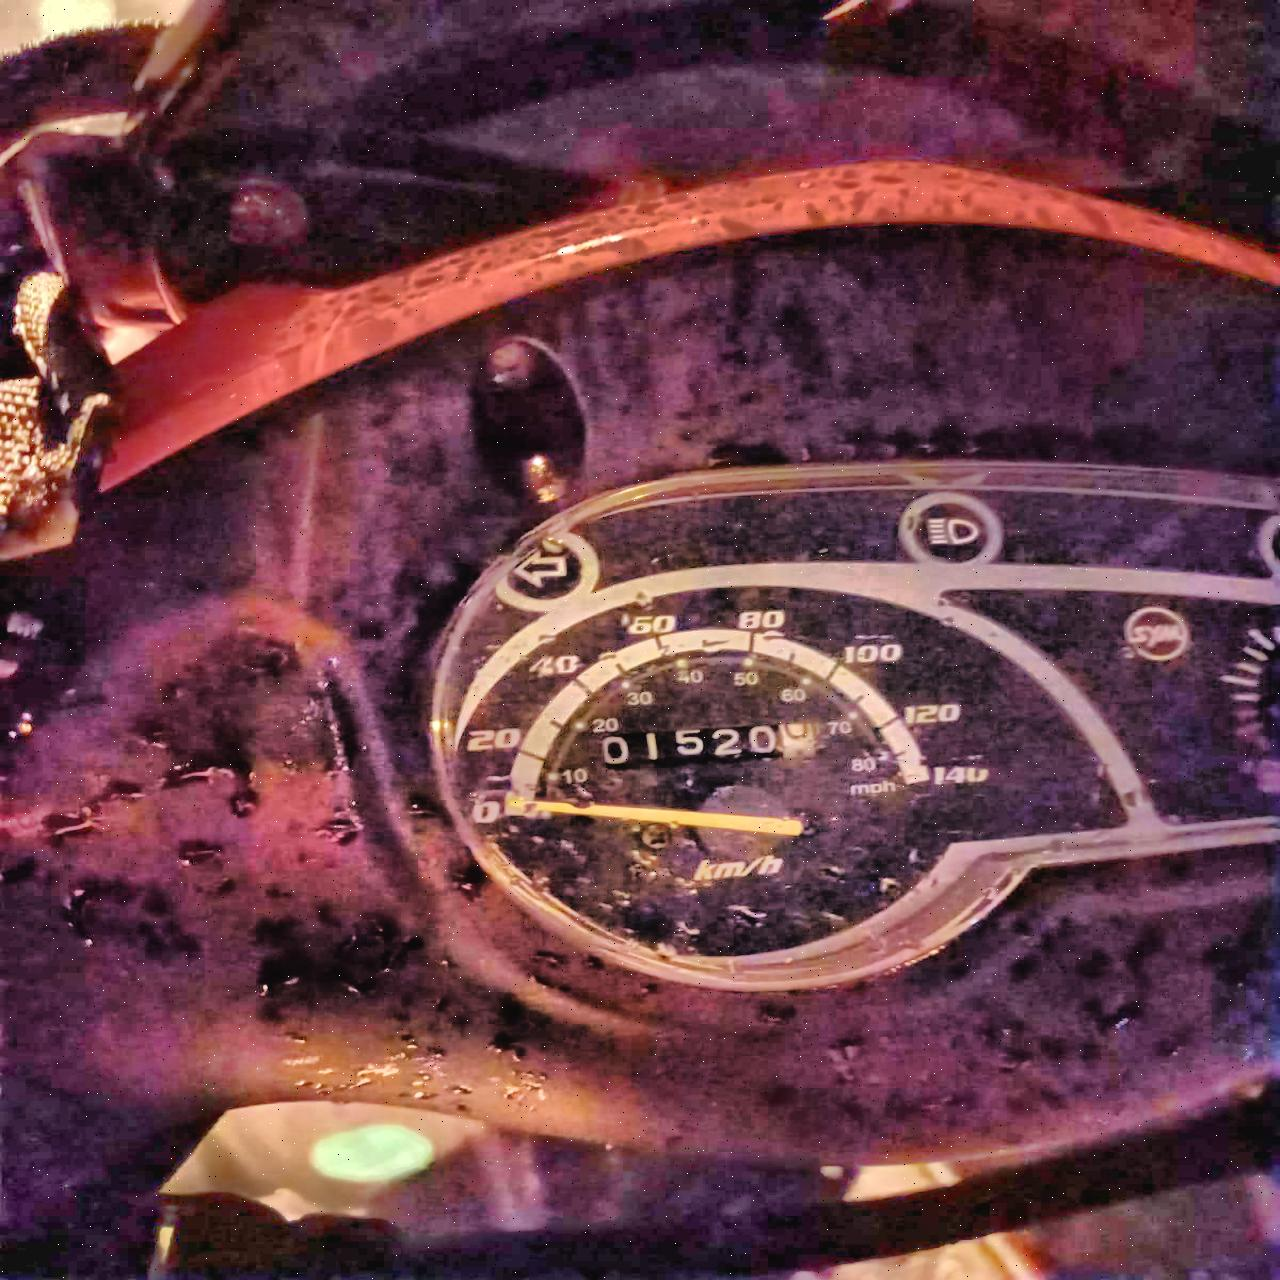0: (747, 726, 776, 756), (600, 735, 631, 763), (782, 719, 811, 747), (605, 716, 619, 730)
1: (644, 729, 661, 762)
2: (710, 728, 742, 756), (593, 717, 604, 730)
5: (673, 727, 702, 756)
odometer: (593, 717, 826, 767)
